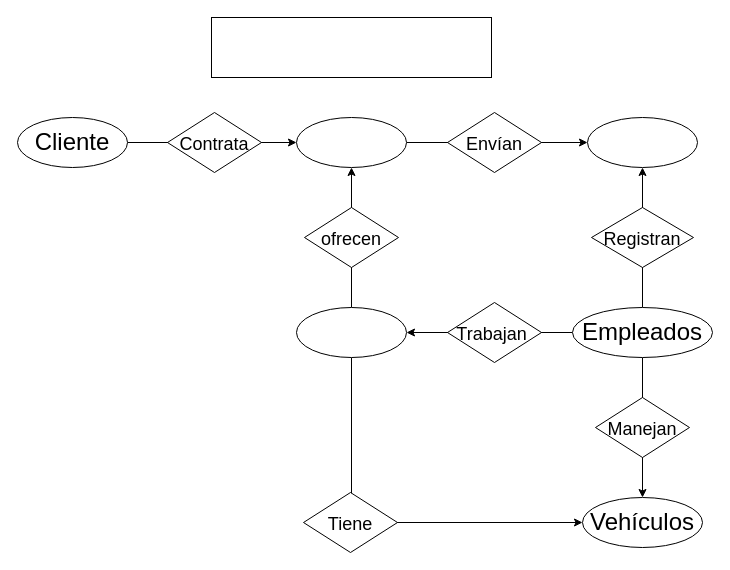
Some shapes in this 730 by 570 pixel diagram are drawn without their labels. Here are the shapes that lost their labels. From the top down, the centre of each, then its label:
At (x=351, y=47): "Diagrama Entidad-Relacion Front-line Envíos".
At (x=351, y=142): "Servicios".
At (x=642, y=142): "Paquetes".
At (x=351, y=332): "Sucursal".
